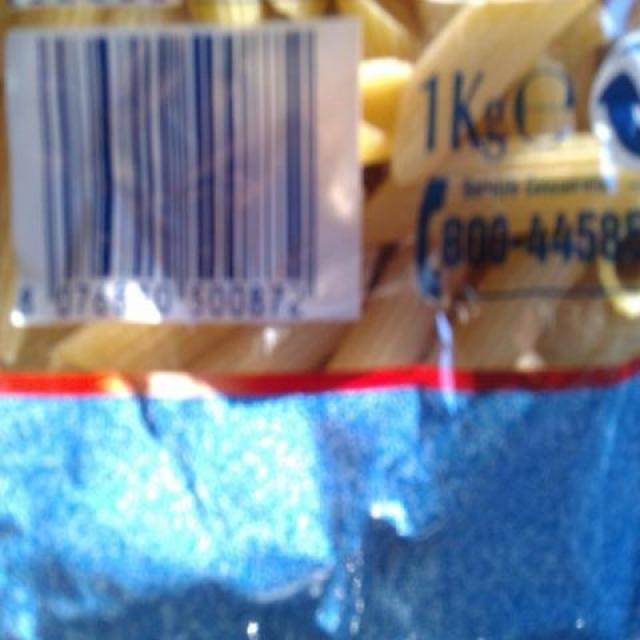Barcode: (7, 17, 361, 319)
